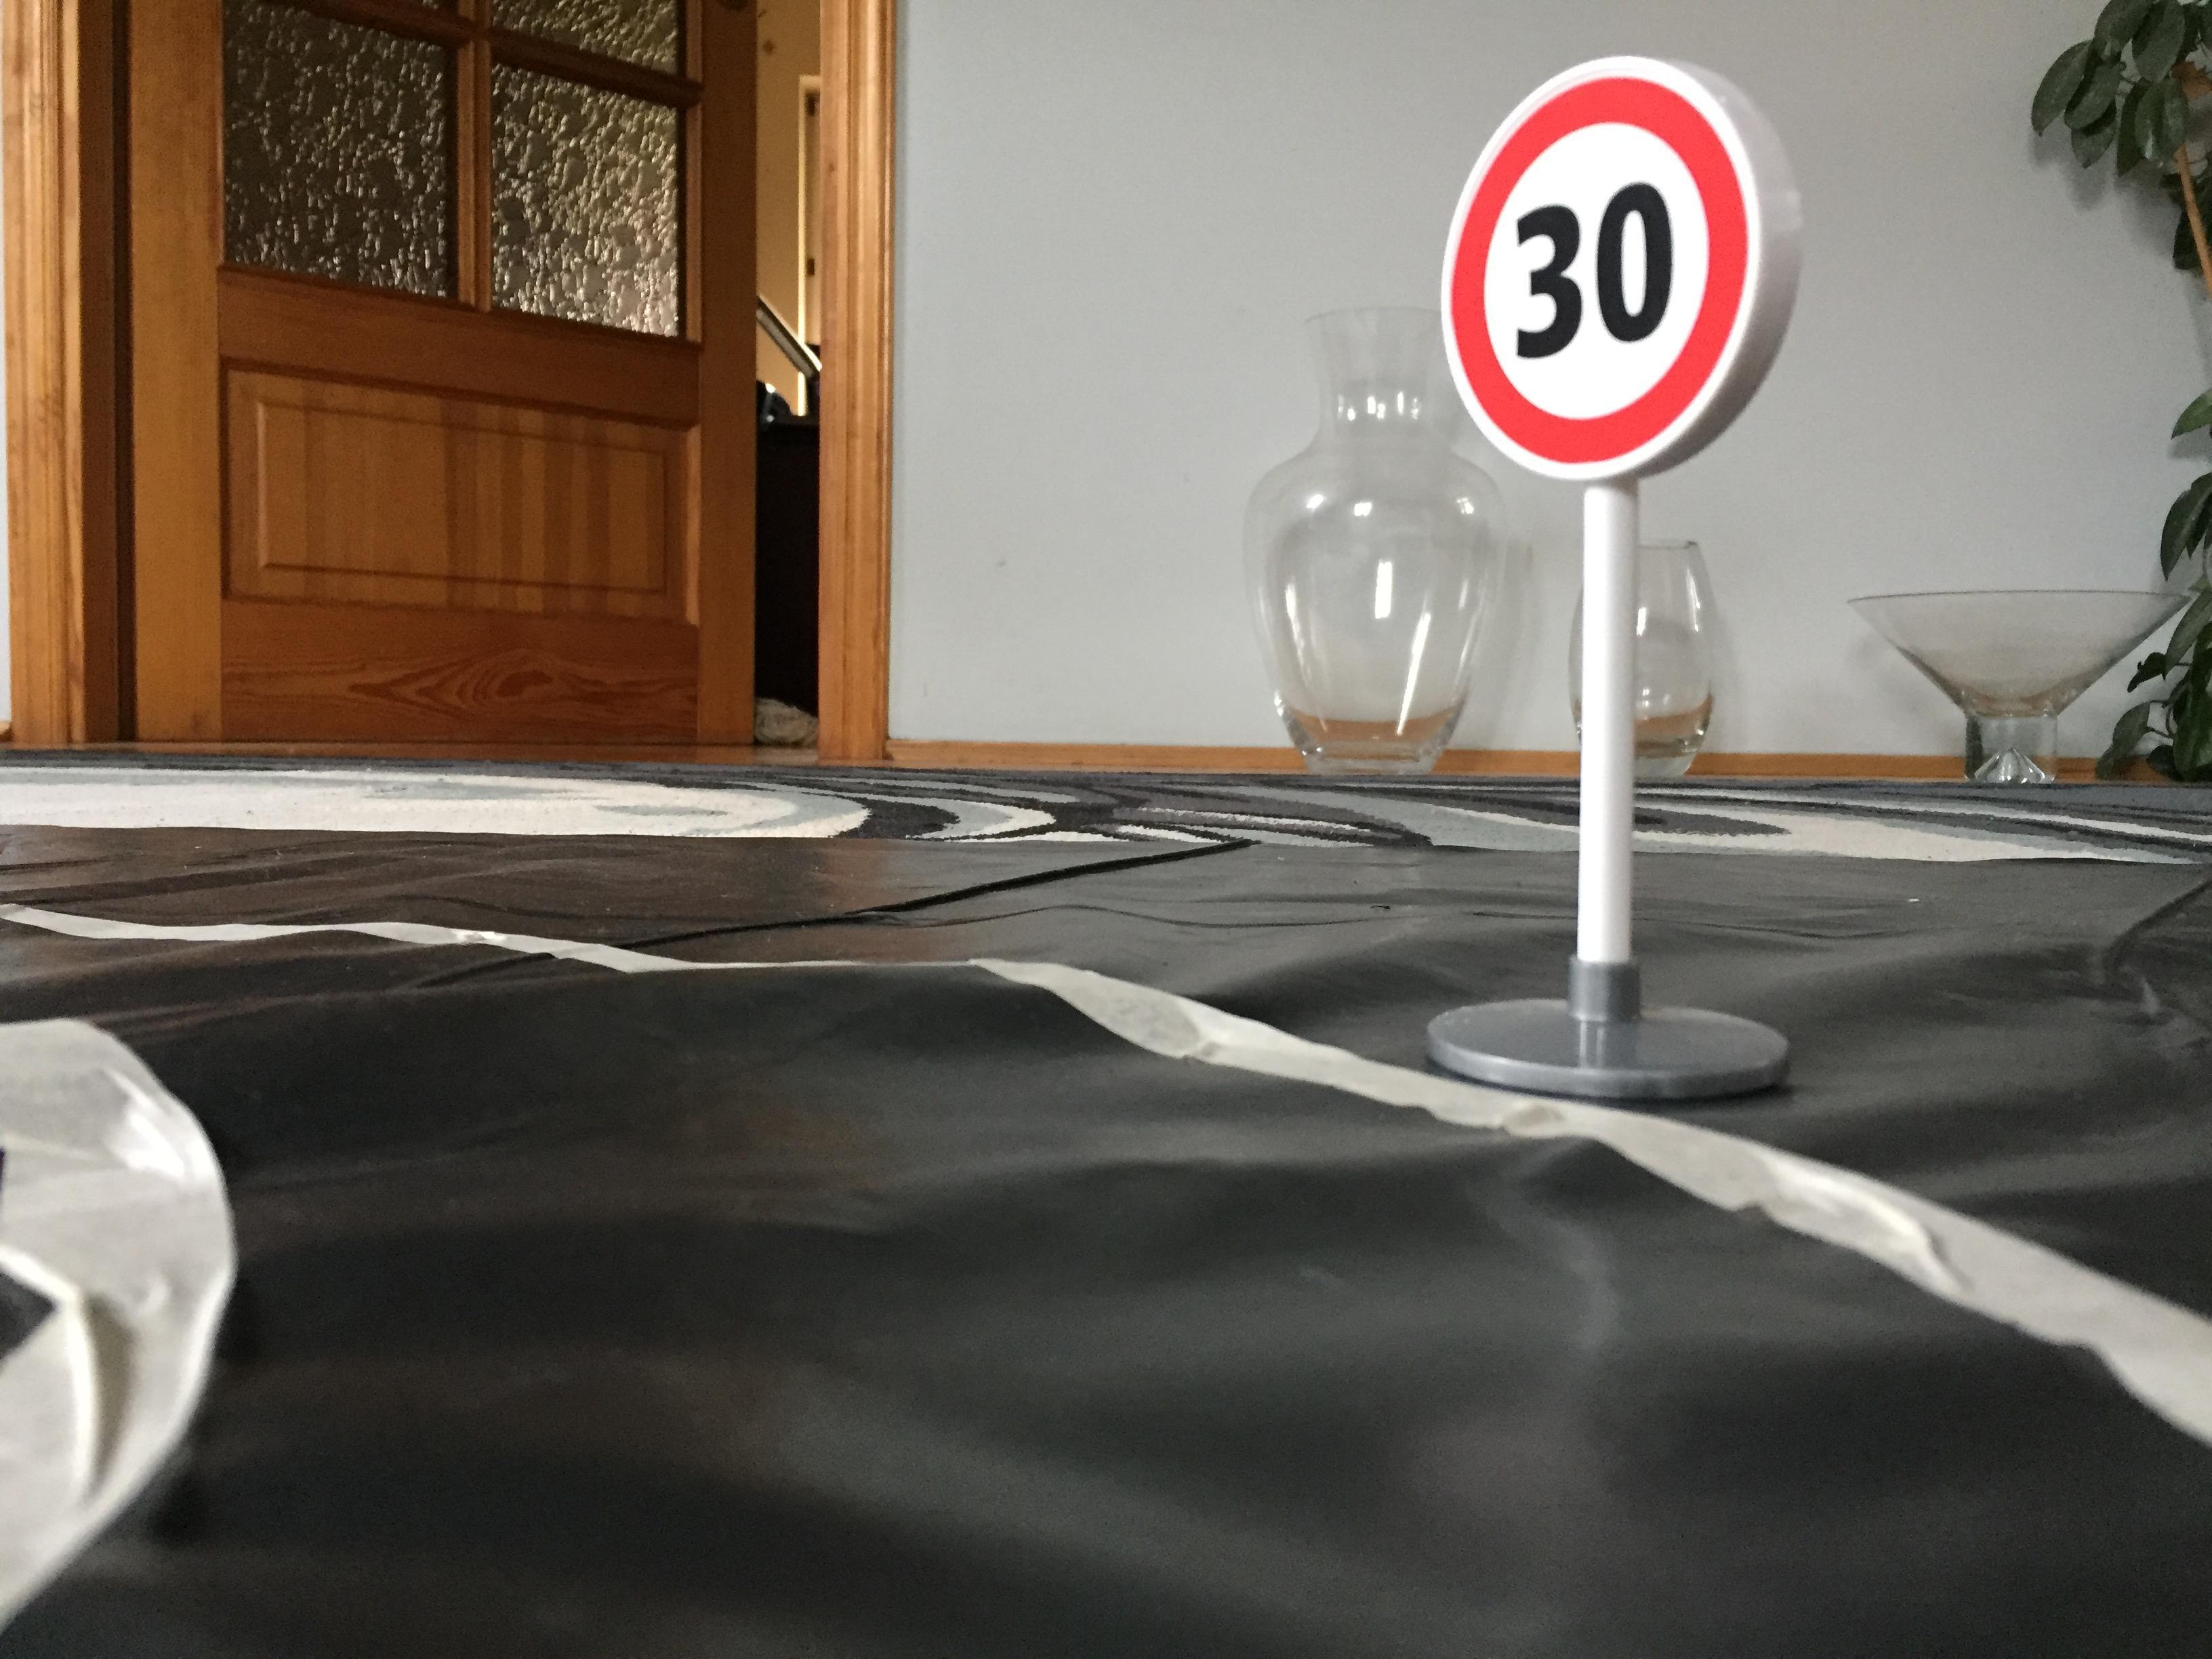speed: (1433, 47, 1818, 493)
